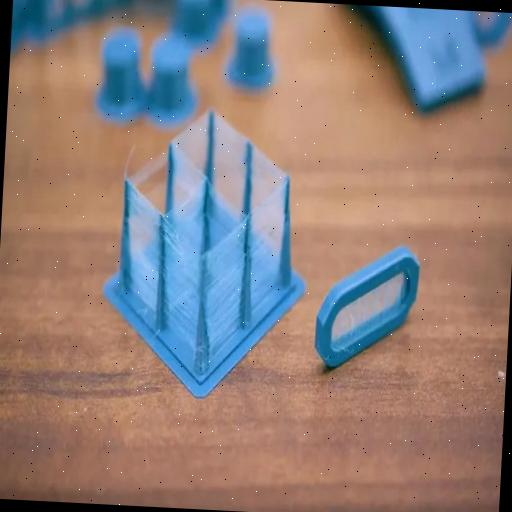stringing: (206, 184, 283, 357), (163, 220, 200, 353), (126, 183, 163, 312), (332, 274, 406, 337), (208, 181, 247, 300), (172, 145, 208, 266), (250, 145, 286, 256), (173, 110, 211, 212), (130, 149, 167, 250), (214, 114, 244, 224)
